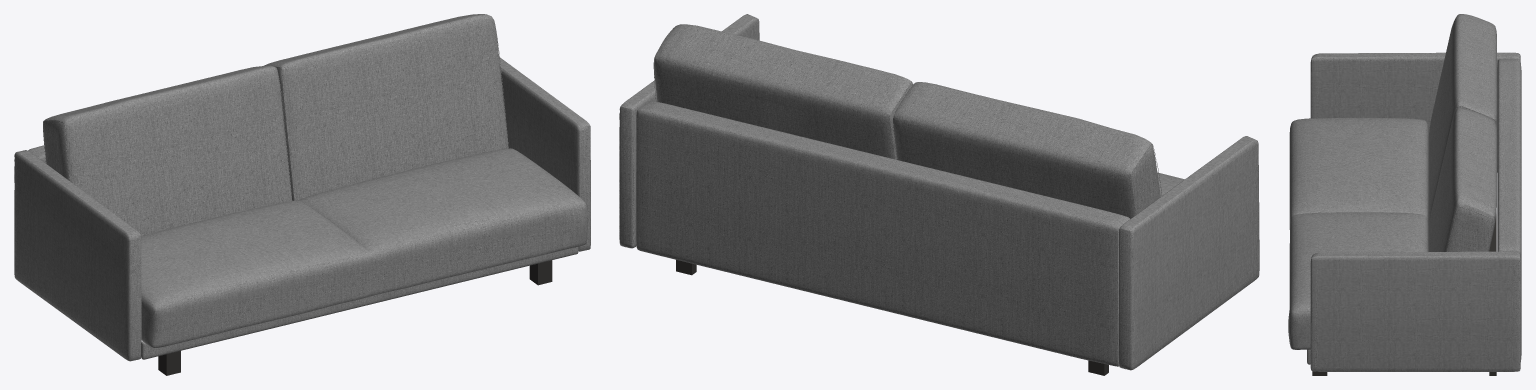
3 views of the same model, side by side, from view 1: azimuth 30°, elevation 25°; view 2: azimuth 150°, elevation 25°; view 3: azimuth 270°, elevation 25° (orthographic). The views are drawn at different scales.
Parts seen in each view (by area): view 1: xcm_back, xcm_seat, C-skp2643; view 2: C-skp2643, xcm_back; view 3: C-skp2643, xcm_seat, xcm_back.
Part boxes in pixels (<box>): xcm_back: <box>43,14,508,235</box>; xcm_seat: <box>141,148,587,375</box>; C-skp2643: <box>14,57,590,361</box>; C-skp2643: <box>619,14,1259,375</box>; xcm_back: <box>653,24,1162,218</box>; C-skp2643: <box>1310,52,1521,375</box>; xcm_seat: <box>1288,117,1496,375</box>; xcm_back: <box>1428,14,1496,251</box>.
Size of the model in its own units: 1.87 by 0.7941 by 0.9013.
Materials: 2 (1 with a texture image).
